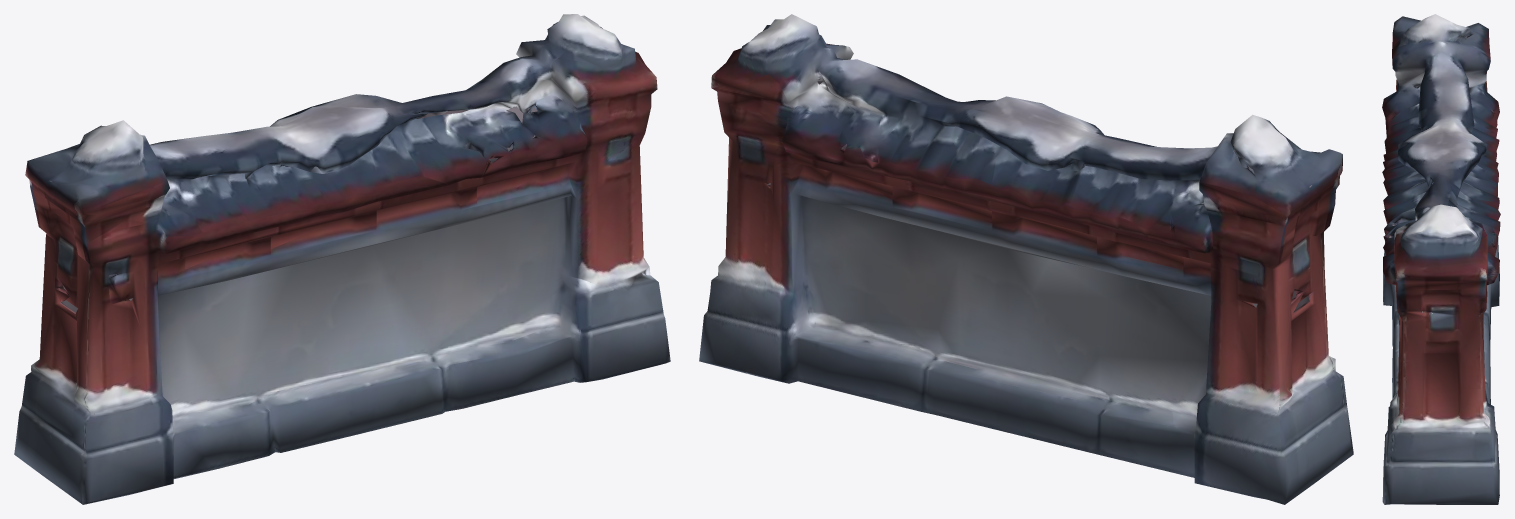
Rendered from SM_Env_FrostWall.glb.
3 renders of one model, left to right at view 1: azimuth 30°, elevation 25°; view 2: azimuth 150°, elevation 25°; view 3: azimuth 270°, elevation 25°, orthographic. The views are drawn at different scales.
Parts seen in each view (by area): view 1: SM_Env_FrostWall_LOD0; view 2: SM_Env_FrostWall_LOD0; view 3: SM_Env_FrostWall_LOD0.
Part boxes in pixels (left/top/right/bottom): SM_Env_FrostWall_LOD0: left=14, top=14, right=670, bottom=504; SM_Env_FrostWall_LOD0: left=699, top=14, right=1353, bottom=504; SM_Env_FrostWall_LOD0: left=1382, top=14, right=1500, bottom=504.
Bounding box in the file's own units: 7.63 × 4.29 × 1.62.
1 material, 1 textured.
